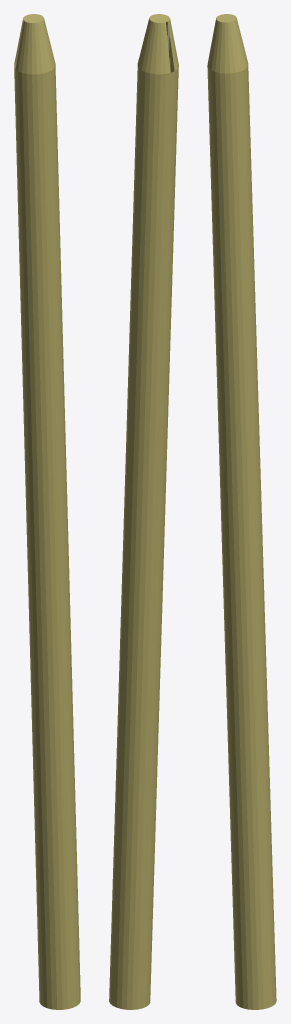
The model's file is prueba.glb.
The picture shows the model from 3 angles, left to right: view 1: azimuth 30°, elevation 25°; view 2: azimuth 150°, elevation 25°; view 3: azimuth 330°, elevation 25°; orthographic projection.
Parts seen in each view (by area): view 1: obj13, obj14, obj12, obj15, obj11, obj16, obj10, obj17, obj9, obj18, obj8, obj19 (+5 smaller); view 2: obj5, obj4, obj6, obj7, obj3, obj2, obj8, obj25, obj9, obj24, obj10, obj51 (+4 smaller); view 3: obj17, obj18, obj16, obj19, obj15, obj20, obj14, obj21, obj13, obj22, obj12, obj23 (+5 smaller).
Part boxes in pixels (bbox=[...]): obj13: bbox=[32, 74, 62, 1009]; obj14: bbox=[37, 73, 67, 1009]; obj12: bbox=[26, 74, 57, 1009]; obj15: bbox=[42, 72, 72, 1008]; obj11: bbox=[22, 73, 51, 1009]; obj16: bbox=[47, 71, 76, 1007]; obj10: bbox=[18, 71, 47, 1007]; obj17: bbox=[51, 69, 79, 1005]; obj9: bbox=[15, 69, 43, 1005]; obj18: bbox=[54, 67, 80, 1003]; obj8: bbox=[14, 67, 40, 1003]; obj19: bbox=[55, 64, 80, 991]; obj5: bbox=[126, 74, 160, 1009]; obj4: bbox=[121, 73, 155, 1009]; obj6: bbox=[132, 74, 165, 1009]; obj7: bbox=[137, 73, 170, 1009]; obj3: bbox=[117, 72, 149, 1008]; obj2: bbox=[113, 70, 145, 1007]; obj8: bbox=[142, 71, 174, 1008]; obj25: bbox=[110, 68, 141, 1005]; obj9: bbox=[146, 69, 177, 1006]; obj24: bbox=[109, 66, 138, 1002]; obj10: bbox=[148, 67, 178, 1004]; obj51: bbox=[155, 23, 160, 74]; obj17: bbox=[225, 73, 258, 1009]; obj18: bbox=[230, 72, 263, 1009]; obj16: bbox=[219, 73, 253, 1009]; obj19: bbox=[235, 71, 268, 1008]; obj15: bbox=[215, 72, 247, 1009]; obj20: bbox=[240, 70, 272, 1007]; obj14: bbox=[211, 70, 243, 1007]; obj21: bbox=[244, 68, 274, 1005]; obj13: bbox=[208, 69, 239, 1006]; obj22: bbox=[246, 66, 276, 1003]; obj12: bbox=[207, 67, 236, 1004]; obj23: bbox=[248, 71, 276, 1000].
Size of the model in its own units: 1.22 by 18.45 by 0.7536.
